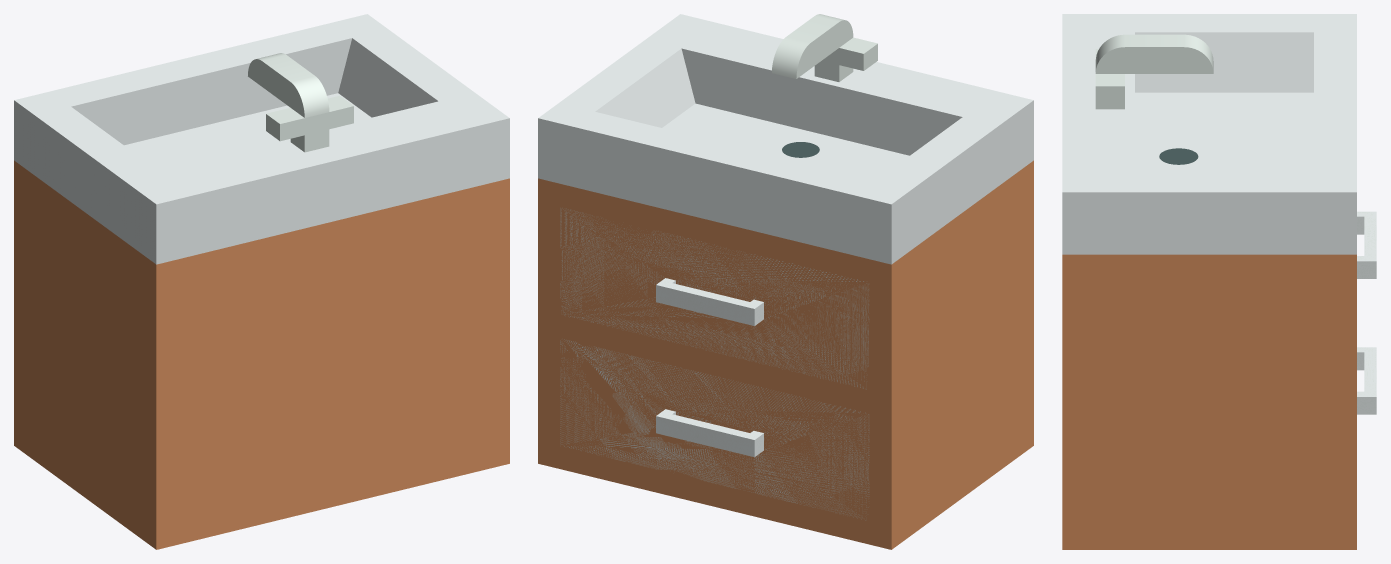
Rendered from bathroomCabinetDrawer.obj.
The picture shows the model from 3 angles, left to right: view 1: azimuth 30°, elevation 25°; view 2: azimuth 150°, elevation 25°; view 3: azimuth 270°, elevation 25°; orthographic projection. The views are drawn at different scales.
Parts seen in each view (by area): view 1: bathroomCabinetDrawer; view 2: bathroomCabinetDrawer, drawerBottom, drawerTop; view 3: bathroomCabinetDrawer, drawerBottom, drawerTop.
Part boxes in pixels (box(x1,y1,x2,y2)): bathroomCabinetDrawer: box(14, 14, 509, 549); bathroomCabinetDrawer: box(538, 14, 1033, 549); drawerBottom: box(560, 338, 869, 521); drawerTop: box(560, 207, 869, 389); bathroomCabinetDrawer: box(1062, 14, 1356, 549); drawerBottom: box(1357, 347, 1376, 414); drawerTop: box(1357, 211, 1376, 278).
Bounding box in the file's own units: 0.43 × 0.4718 × 0.32.
